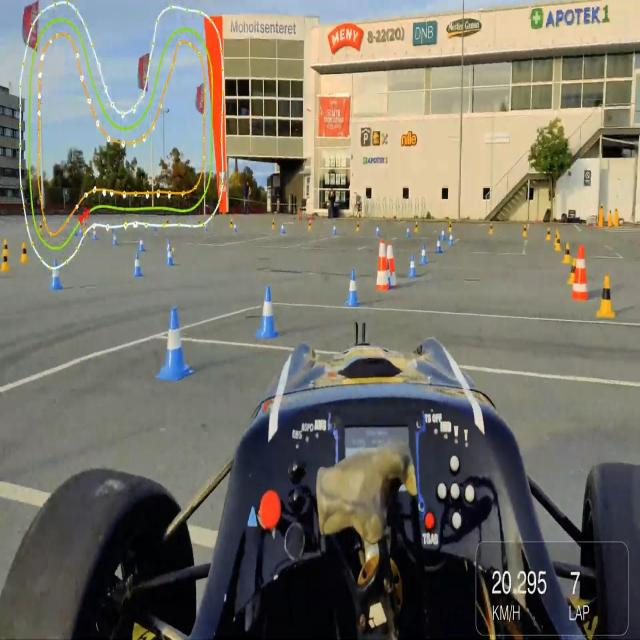blue_cone: (156, 306, 195, 381), (256, 286, 279, 341), (346, 268, 360, 306), (51, 258, 62, 291), (132, 252, 144, 275), (407, 254, 418, 276), (166, 247, 175, 266), (420, 244, 428, 264), (436, 235, 442, 253), (139, 234, 145, 252)
large_orange_cone: (572, 245, 589, 299), (376, 241, 389, 291), (384, 242, 397, 289)
yellow_cone: (596, 274, 616, 318), (568, 258, 581, 284), (0, 248, 10, 272), (563, 243, 571, 264), (1, 238, 9, 258), (21, 242, 28, 262), (555, 233, 562, 252)
